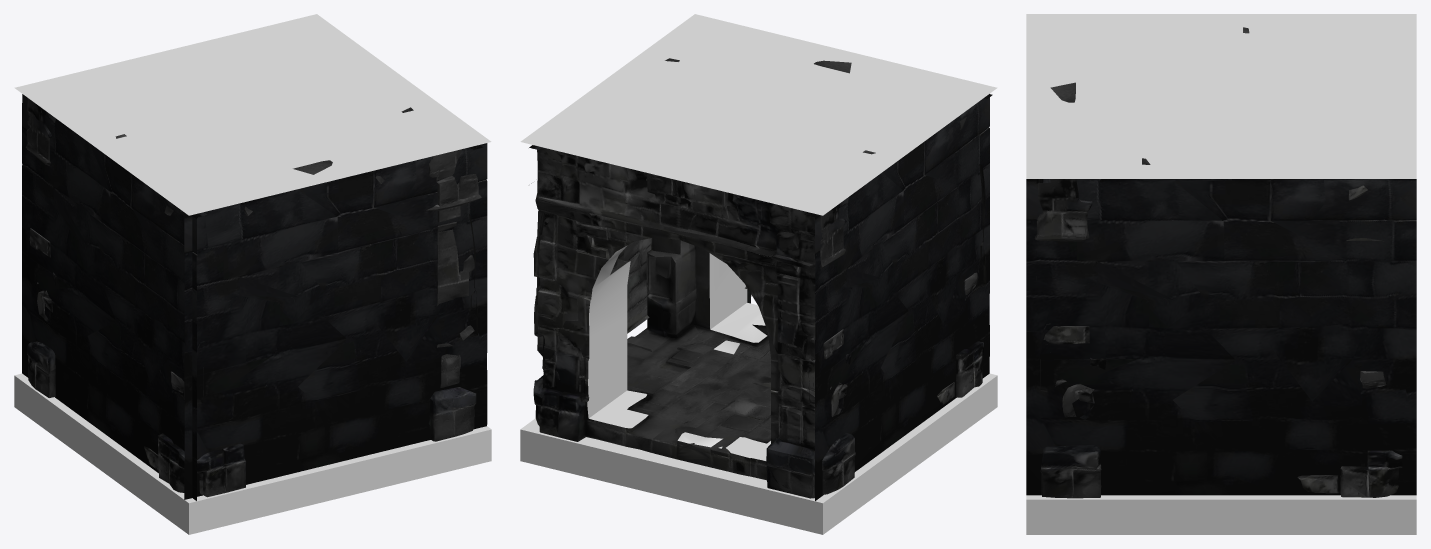
File: module_dead.glb
3 renders of one model, left to right at view 1: azimuth 30°, elevation 25°; view 2: azimuth 150°, elevation 25°; view 3: azimuth 270°, elevation 25°, orthographic. The views are drawn at different scales.
Parts seen in each view (by area): view 1: tripo_node_8c5739aa-f84c-4d8b-8e59-f022d221bb8c; view 2: tripo_node_8c5739aa-f84c-4d8b-8e59-f022d221bb8c; view 3: tripo_node_8c5739aa-f84c-4d8b-8e59-f022d221bb8c.
Boxes of the visible parts, x1,y1,x2,y2 form: tripo_node_8c5739aa-f84c-4d8b-8e59-f022d221bb8c: (14, 14, 491, 534); tripo_node_8c5739aa-f84c-4d8b-8e59-f022d221bb8c: (520, 14, 997, 534); tripo_node_8c5739aa-f84c-4d8b-8e59-f022d221bb8c: (1026, 14, 1416, 534).
Bounding box in the file's own units: 6 × 6.06 × 6.
Materials: 3 (2 with a texture image).
